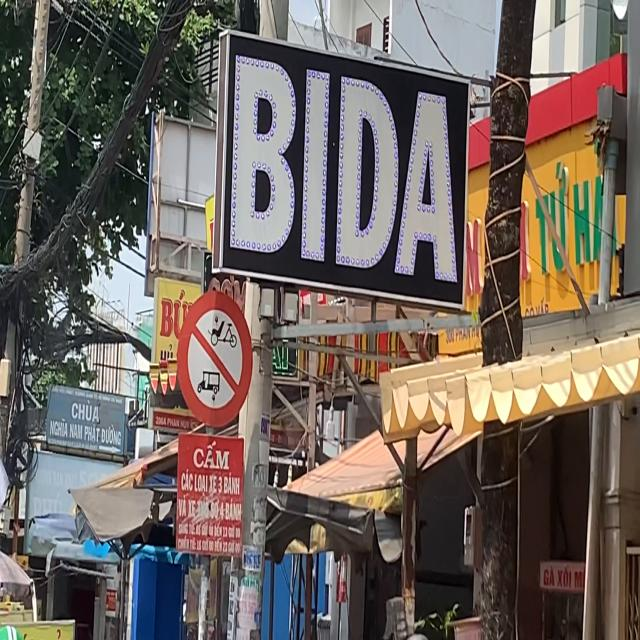Cam con lai: (175, 289, 254, 432)
